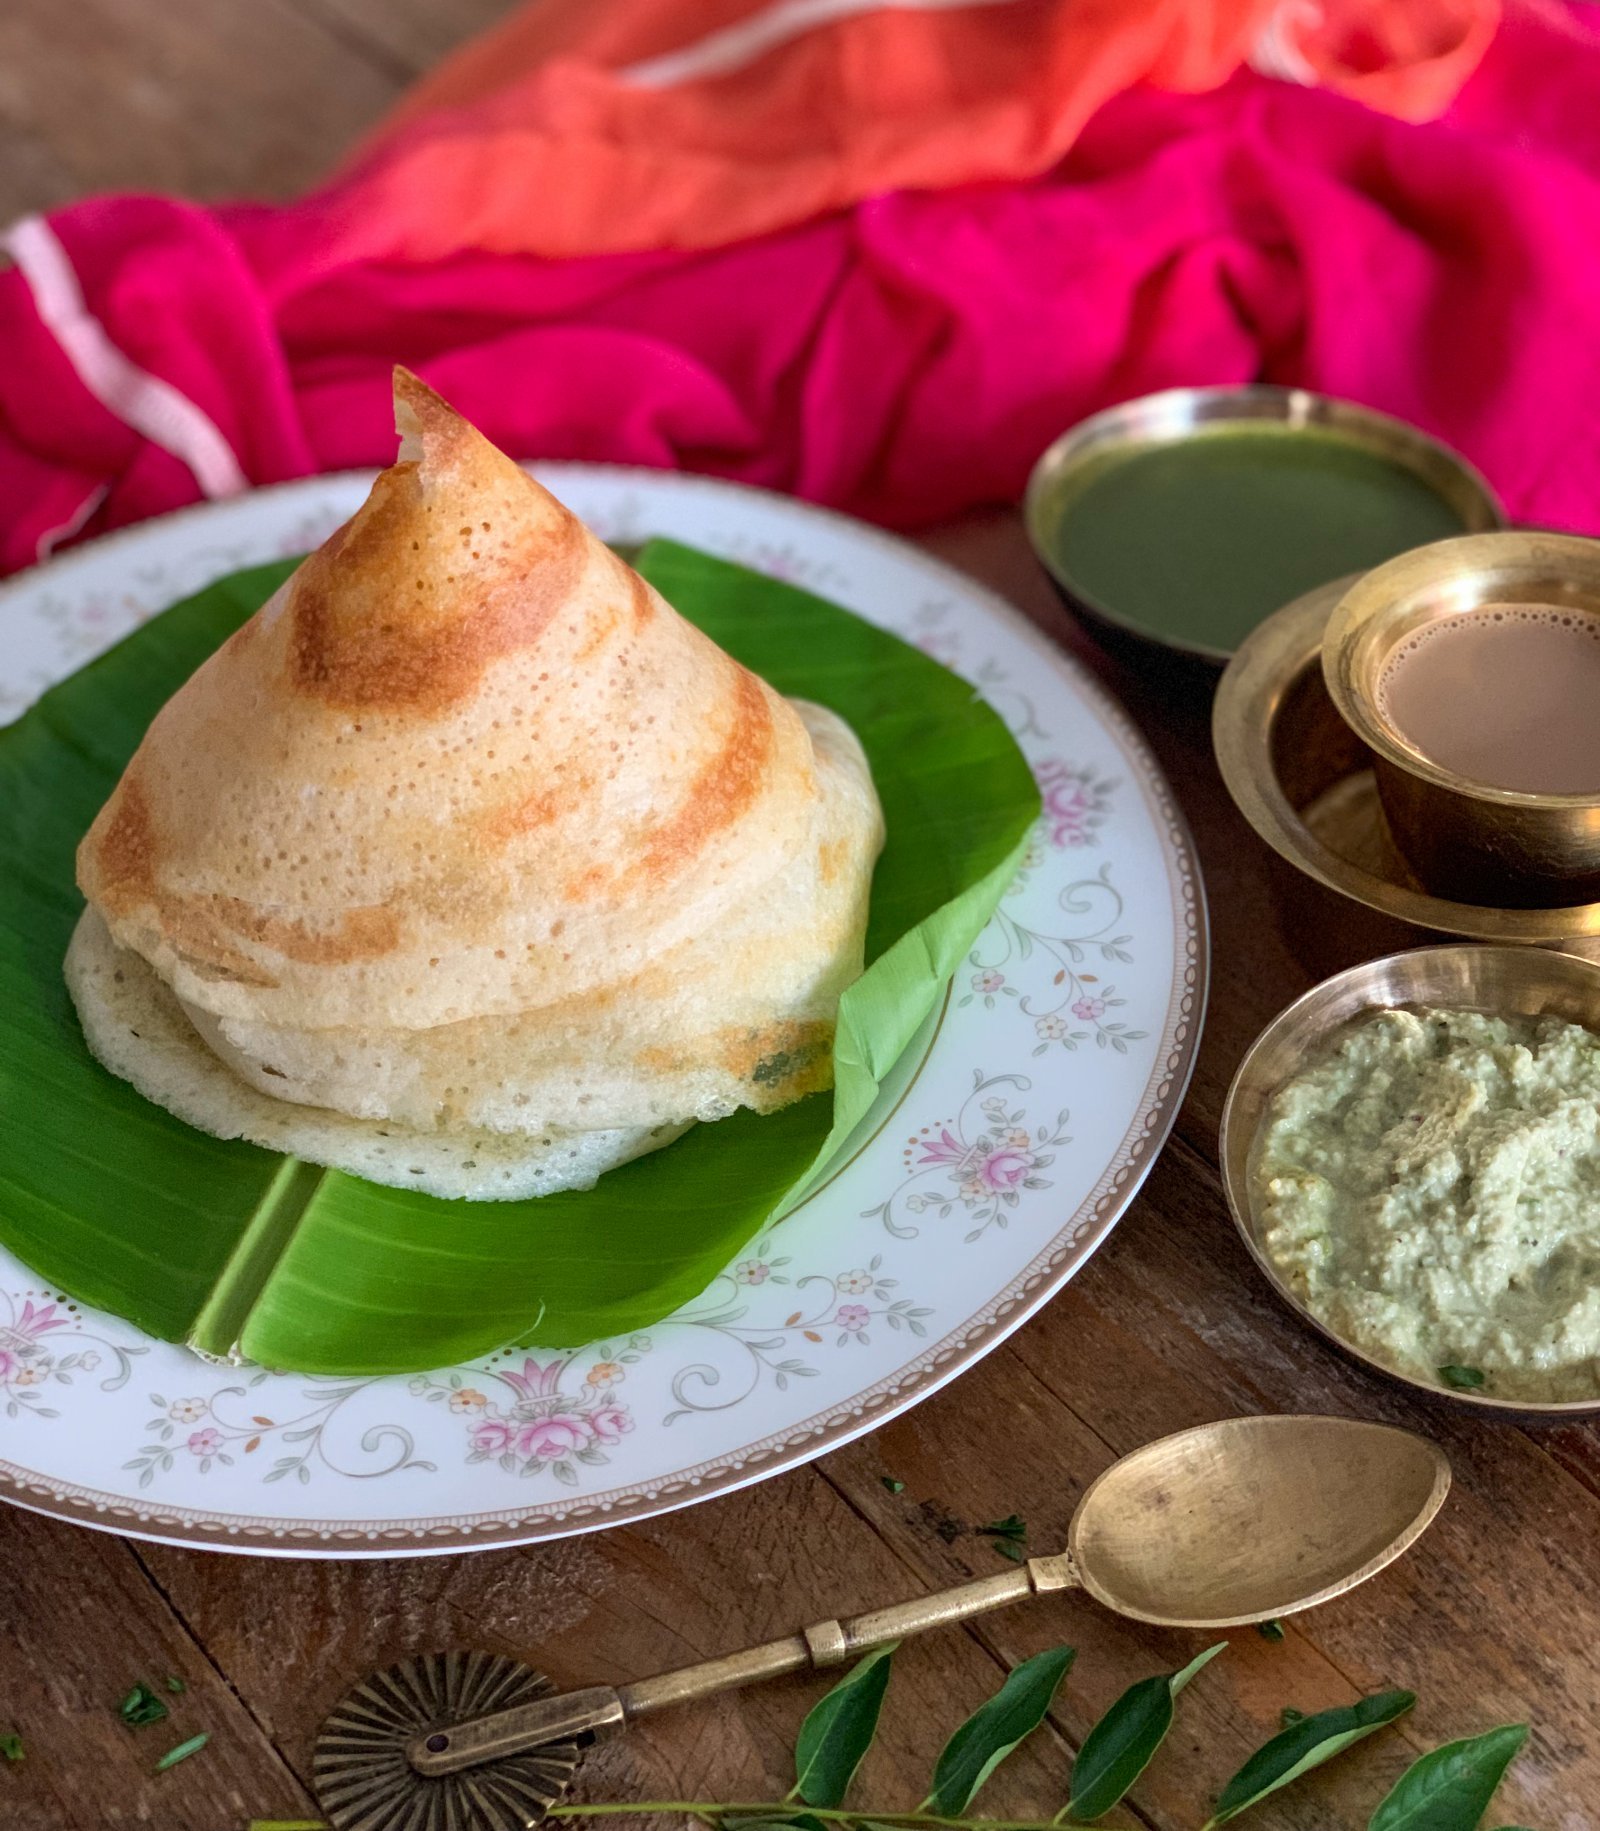dosa: (64, 364, 1082, 1227)
